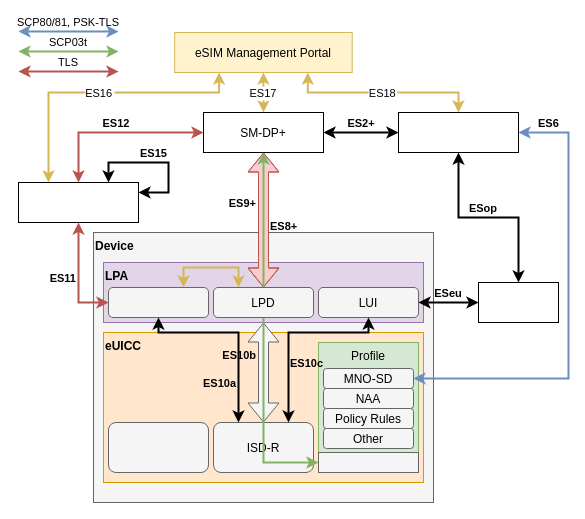
This 585x519 diagram has some shape labels left out. Here are the shapes that lost their labels. From the top down, the centre of each, then its label:
At (458,132): "Operator".
At (78,202): "SM-DS".
At (158,302): "LDS".
At (518,302): "End User".
At (158,447): "ECASD".
At (368,462): "ISD-P".
